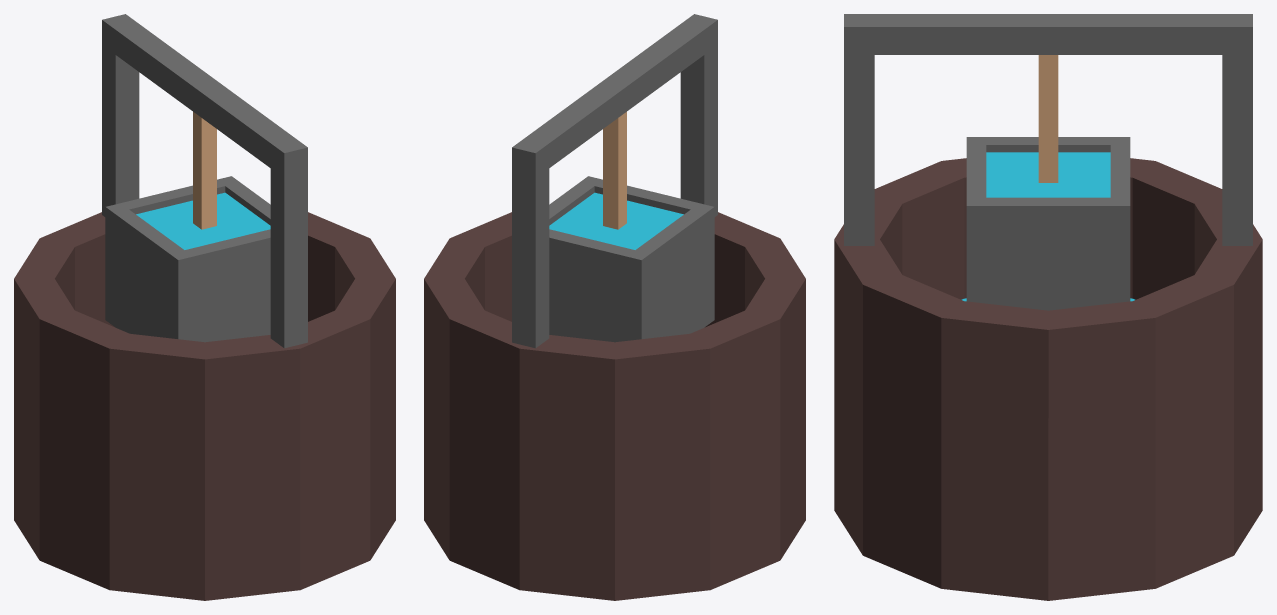
The model's file is waterWell.fbx.
3 renders of one model, left to right at view 1: azimuth 30°, elevation 25°; view 2: azimuth 150°, elevation 25°; view 3: azimuth 270°, elevation 25°, orthographic. The views are drawn at different scales.
Visible parts, largest first — view 1: Well; view 2: Well; view 3: Well.
Boxes of the visible parts, x1,y1,x2,y2 form: Well: (14, 14, 395, 600); Well: (424, 14, 805, 600); Well: (834, 14, 1262, 600).
Size of the model in its own units: 200 by 252 by 200.
